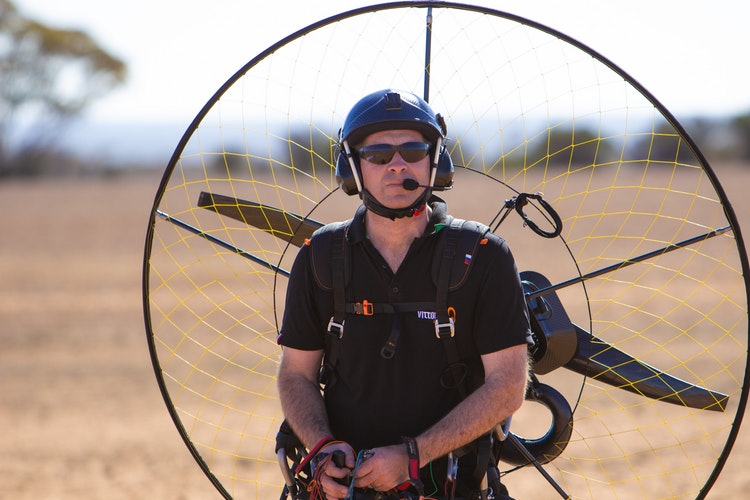helmet: (334, 85, 441, 197)
